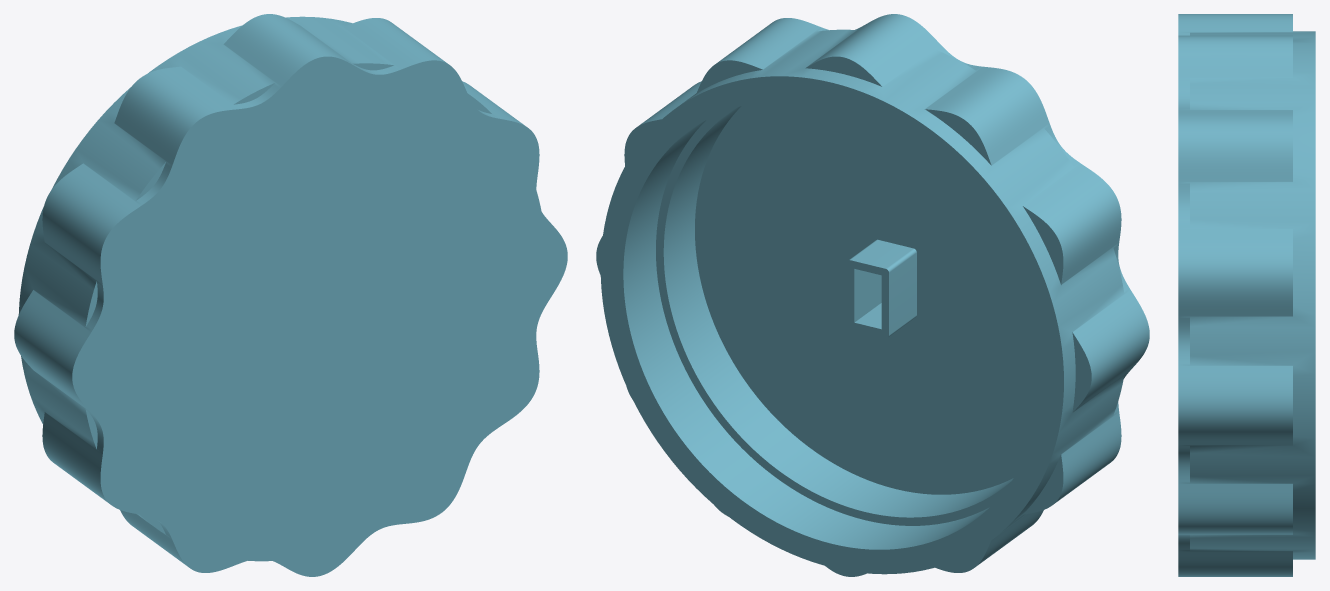
The model's file is Cap_scalloped_coin.glb.
3 views of the same model, side by side, from view 1: azimuth 30°, elevation 25°; view 2: azimuth 150°, elevation 25°; view 3: azimuth 270°, elevation 25° (orthographic).
Parts seen in each view (by area): view 1: Cap_scalloped_coin_0; view 2: Cap_scalloped_coin_0; view 3: Cap_scalloped_coin_0.
Part boxes in pixels (<box>): Cap_scalloped_coin_0: <box>14,14,567,576</box>; Cap_scalloped_coin_0: <box>596,14,1149,576</box>; Cap_scalloped_coin_0: <box>1178,14,1315,576</box>.
Bounding box in the file's own units: 61.6 × 61.6 × 15.
